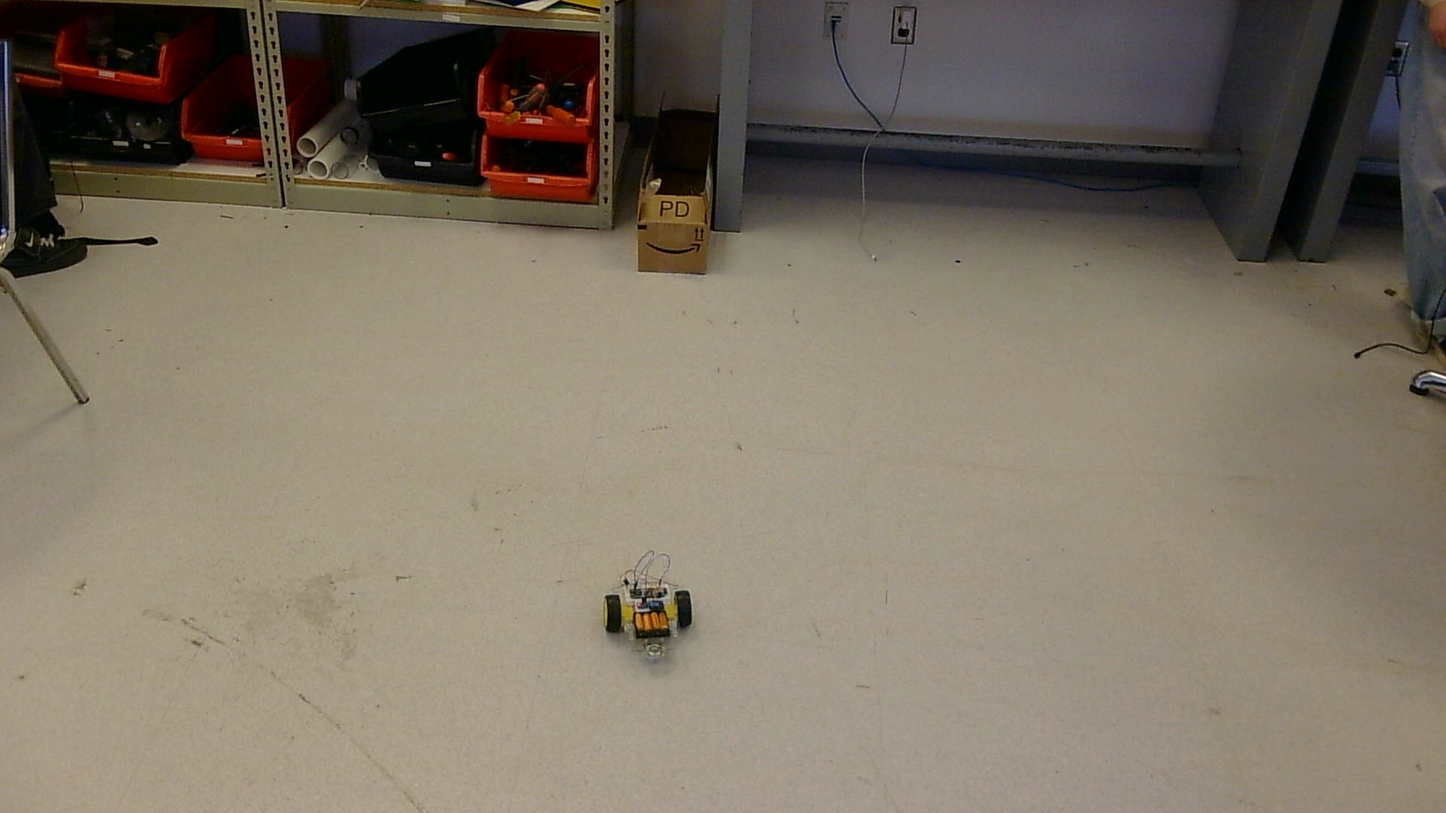robot: (604, 550, 693, 657)
